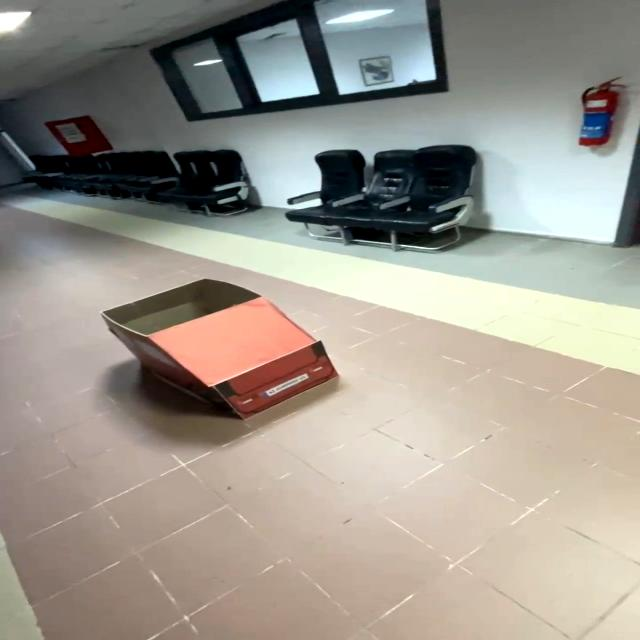red_car: (68, 264, 380, 459)
